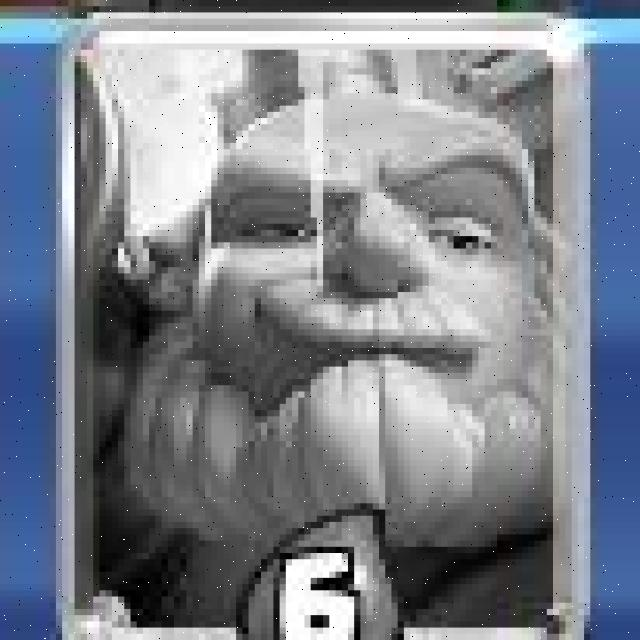Royal_Giant: (69, 18, 594, 640)
